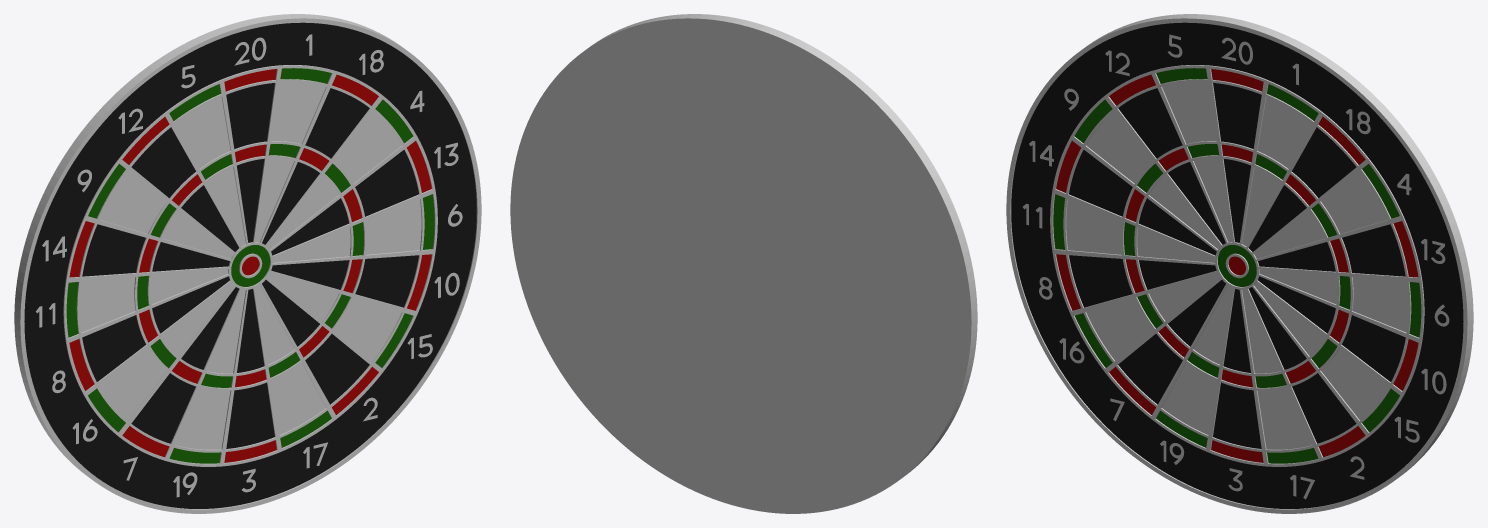
File: Dartboard.fbx
The picture shows the model from 3 angles, left to right: view 1: azimuth 30°, elevation 25°; view 2: azimuth 150°, elevation 25°; view 3: azimuth 330°, elevation 25°; orthographic projection.
Parts seen in each view (by area): view 1: Cylinder.004, Cylinder.000, Cylinder.065, Cylinder.025, Cylinder.061, Cylinder.057, Cylinder.041, Cylinder.021, Cylinder.029, Cylinder.017, Cylinder.069, Cylinder.073 (+51 smaller); view 2: Cylinder.000; view 3: Cylinder.004, Cylinder.000, Cylinder.009, Cylinder.049, Cylinder.013, Cylinder.017, Cylinder.053, Cylinder.033, Cylinder.045, Cylinder.057, Cylinder.005, Cylinder.081 (+51 smaller).
Boxes of the visible parts, x1,y1,x2,y2 form: Cylinder.004: [24, 22, 476, 508]; Cylinder.000: [14, 14, 481, 513]; Cylinder.065: [99, 171, 166, 233]; Cylinder.025: [334, 298, 401, 360]; Cylinder.061: [82, 224, 145, 276]; Cylinder.057: [79, 277, 135, 332]; Cylinder.041: [175, 387, 230, 449]; Cylinder.021: [355, 255, 418, 307]; Cylinder.029: [305, 334, 369, 404]; Cylinder.017: [366, 199, 421, 254]; Cylinder.069: [131, 127, 195, 197]; Cylinder.073: [175, 97, 230, 168]; Cylinder.000: [510, 14, 977, 513]; Cylinder.004: [1011, 22, 1463, 508]; Cylinder.000: [1006, 14, 1473, 513]; Cylinder.009: [1321, 171, 1388, 233]; Cylinder.049: [1086, 298, 1153, 360]; Cylinder.013: [1342, 224, 1405, 276]; Cylinder.017: [1352, 277, 1408, 332]; Cylinder.053: [1069, 255, 1132, 307]; Cylinder.033: [1257, 387, 1312, 449]; Cylinder.045: [1118, 334, 1182, 404]; Cylinder.057: [1066, 199, 1121, 254]; Cylinder.005: [1292, 127, 1356, 197]; Cylinder.081: [1257, 97, 1312, 168].
Size of the model in its own units: 204 by 4.63 by 204.
